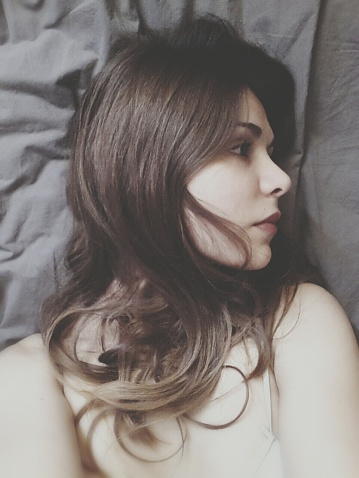deitado: (9, 13, 355, 470)
